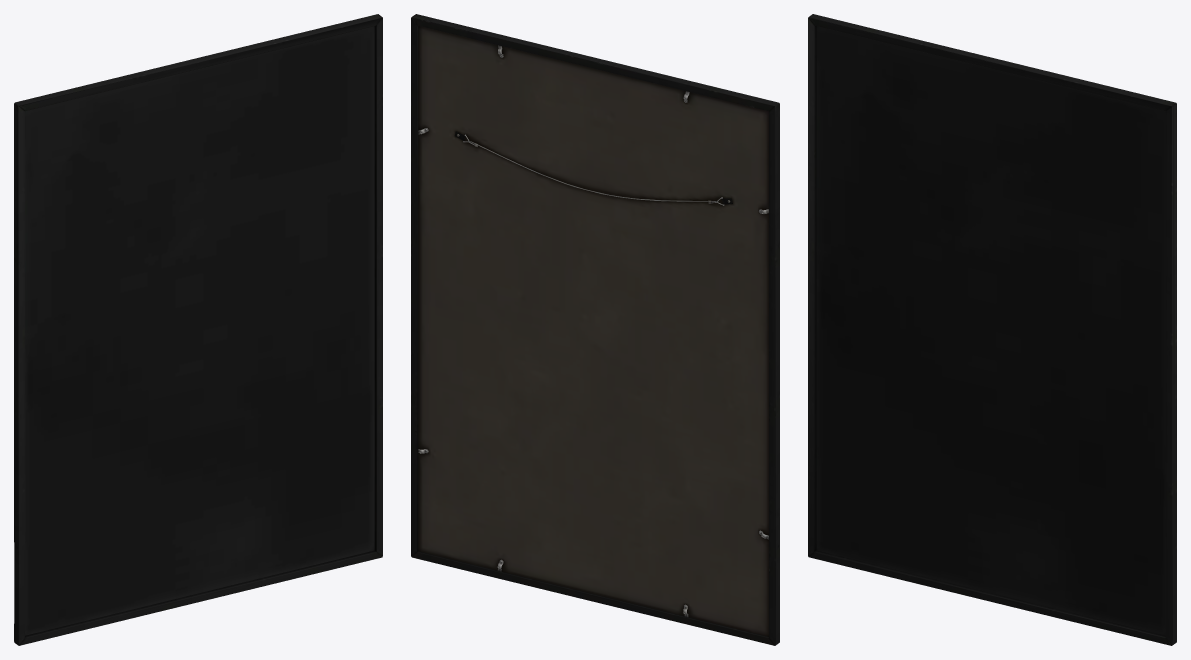
The model's file is hanging_picture_frame_01.glb.
3 views of the same model, side by side, from view 1: azimuth 30°, elevation 25°; view 2: azimuth 150°, elevation 25°; view 3: azimuth 330°, elevation 25° (orthographic).
Visible parts, largest first — view 1: hanging_picture_frame_01; view 2: hanging_picture_frame_01; view 3: hanging_picture_frame_01.
Part boxes in pixels (bbox=[...]): hanging_picture_frame_01: bbox=[14, 14, 382, 645]; hanging_picture_frame_01: bbox=[411, 14, 779, 645]; hanging_picture_frame_01: bbox=[808, 14, 1176, 645].
Size of the model in its own units: 0.594 by 0.841 by 0.0157.
3 materials, 3 textured.
